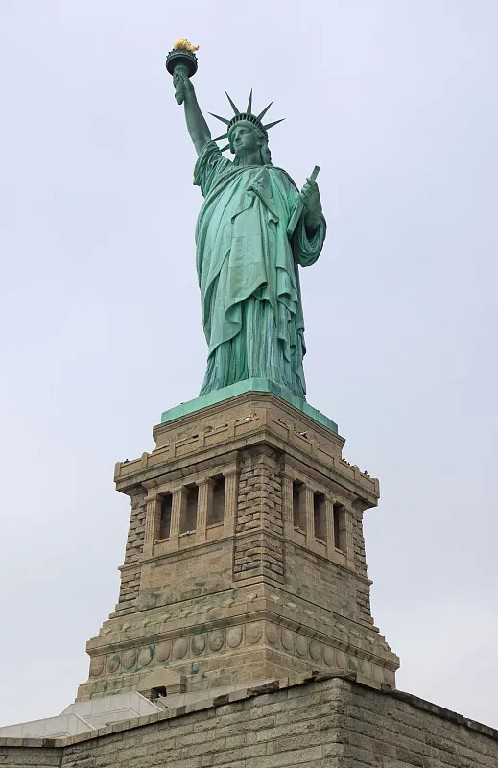SL: (75, 37, 400, 704)
